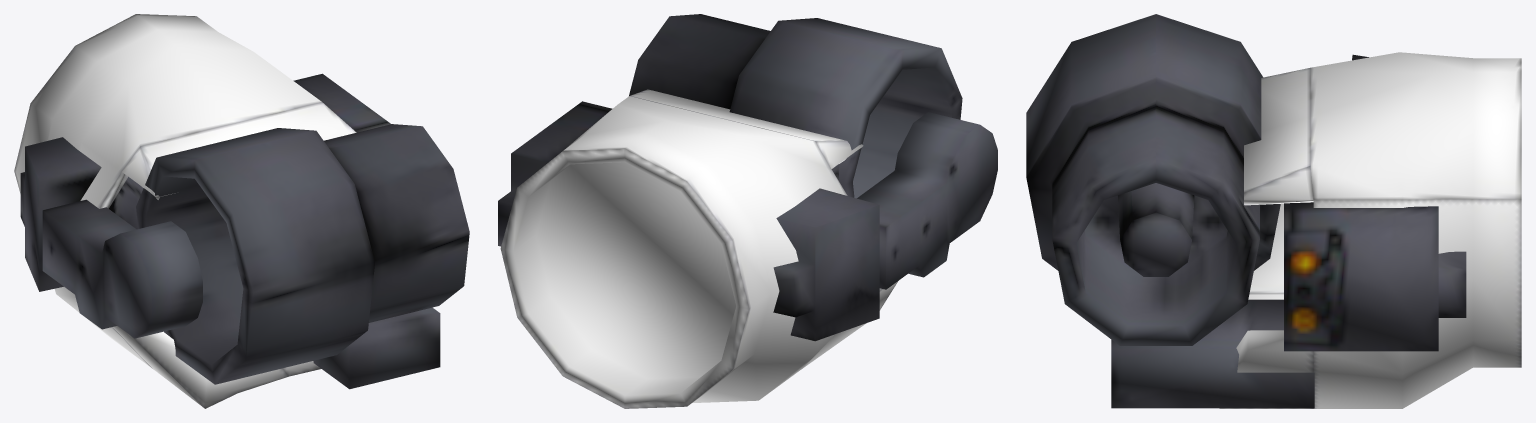
Rendered from r_uarm.dae.
3 renders of one model, left to right at view 1: azimuth 30°, elevation 25°; view 2: azimuth 150°, elevation 25°; view 3: azimuth 270°, elevation 25°, orthographic. The views are drawn at different scales.
Visible parts, largest first — view 1: r_uarm; view 2: r_uarm; view 3: r_uarm.
Part boxes in pixels (<box>): r_uarm: <box>14,14,469,408</box>; r_uarm: <box>498,14,997,408</box>; r_uarm: <box>1026,14,1521,408</box>.
Size of the model in its own units: 0.1475 by 0.1769 by 0.1261.
